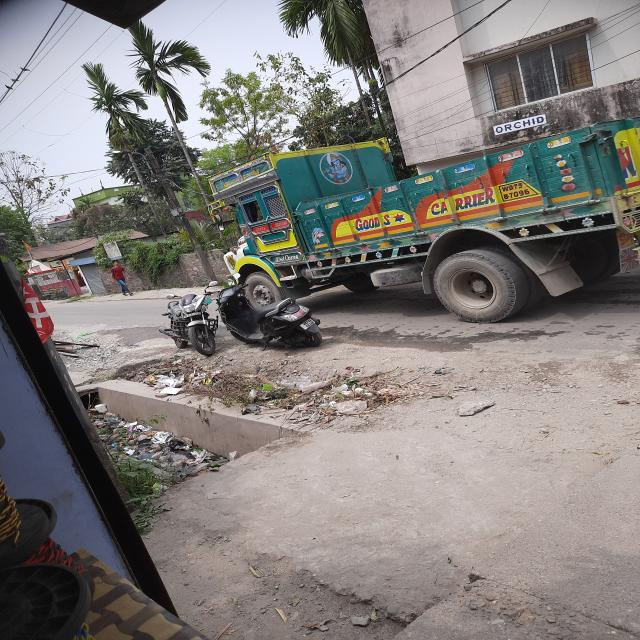Bike: (212, 272, 340, 350), (144, 289, 226, 369)
Truck: (199, 86, 640, 311)
